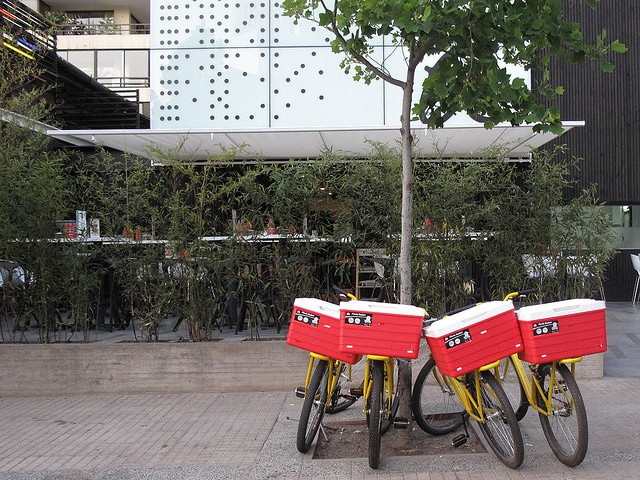non-vehicle: (411, 348, 524, 469), (509, 352, 590, 469), (348, 355, 411, 472), (295, 351, 357, 456)
